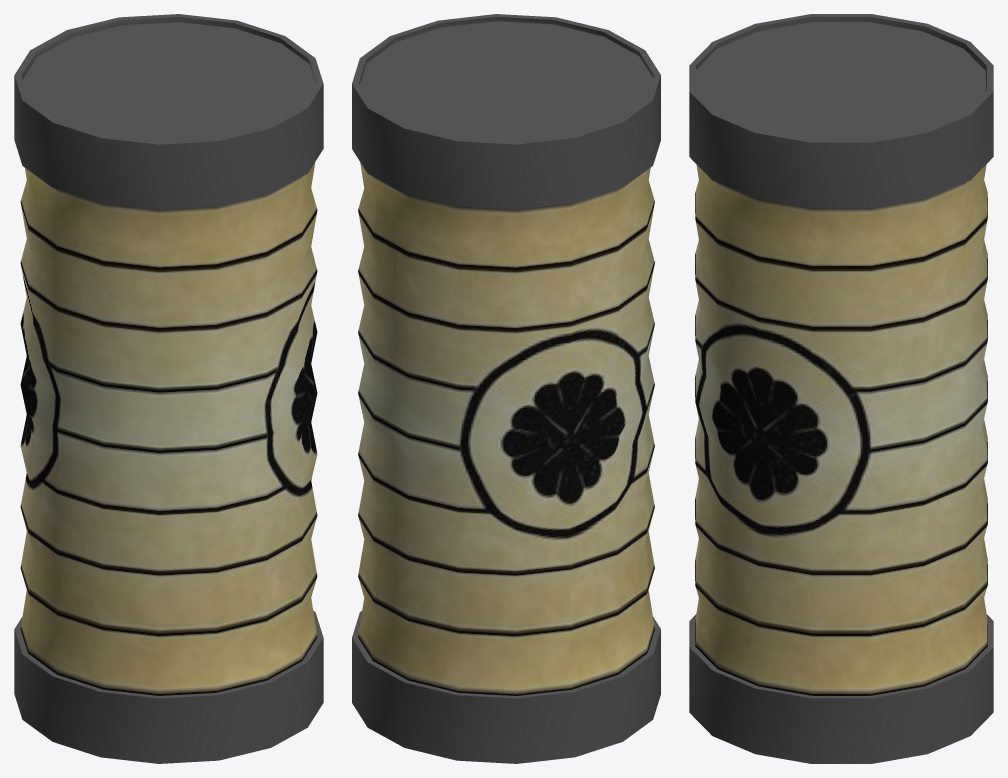
File: sh_blend_swap_cc_0_japaneselantern.glb
The picture shows the model from 3 angles, left to right: view 1: azimuth 30°, elevation 25°; view 2: azimuth 150°, elevation 25°; view 3: azimuth 270°, elevation 25°; orthographic projection.
Size of the model in its own units: 0.156 by 0.351 by 0.156.
Materials: 2 (1 with a texture image).
